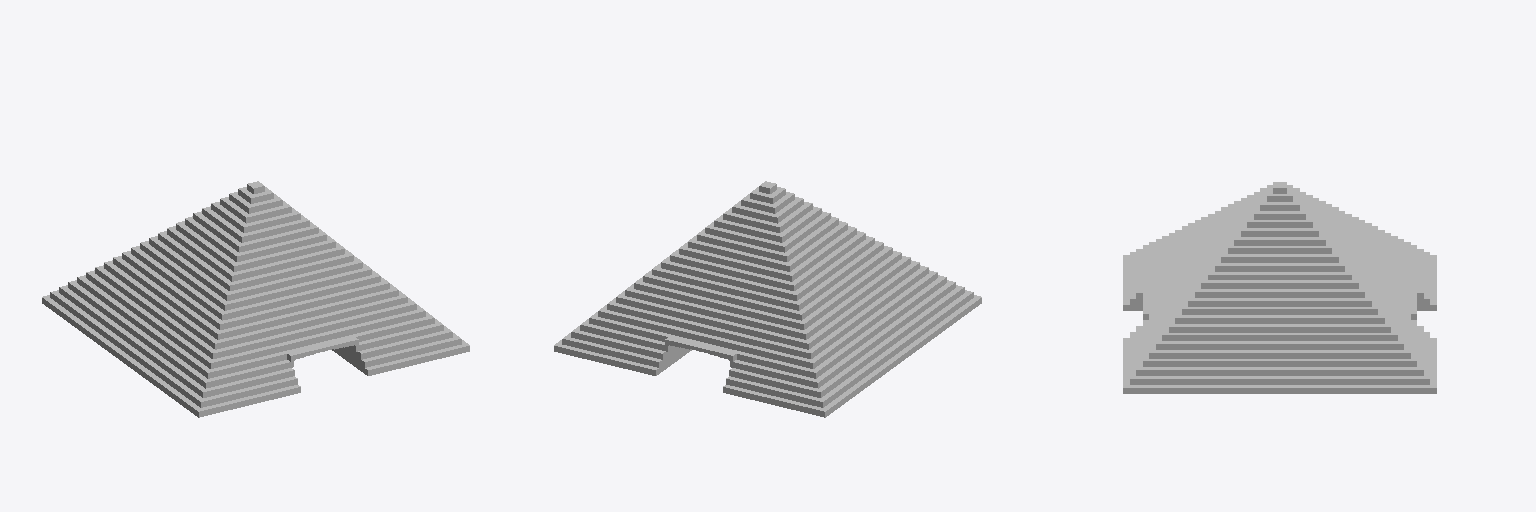
File: prop_pyramide.obj
The picture shows the model from 3 angles: view 1: azimuth 30°, elevation 25°; view 2: azimuth 150°, elevation 25°; view 3: azimuth 270°, elevation 25°; orthographic projection.
Parts seen in each view (by area): view 1: prop_pyramide_t1-21; view 2: prop_pyramide_t1-21; view 3: prop_pyramide_t1-21.
Part boxes in pixels (left/top/right/bottom): prop_pyramide_t1-21: left=42, top=181, right=469, bottom=417; prop_pyramide_t1-21: left=554, top=181, right=981, bottom=417; prop_pyramide_t1-21: left=1123, top=182, right=1436, bottom=393.
Bounding box in the file's own units: 48 × 24 × 48.